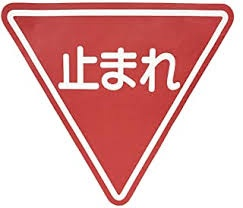Regulatory_sign_triangle: (1, 1, 239, 206)
